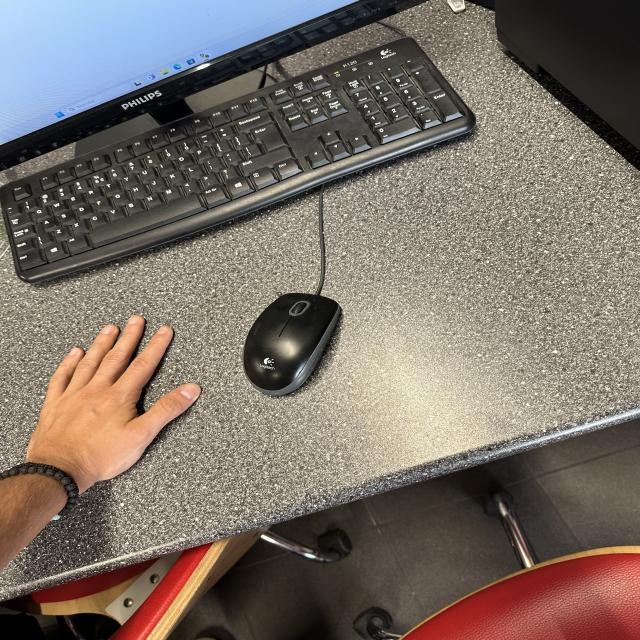mysz: (241, 289, 347, 399)
